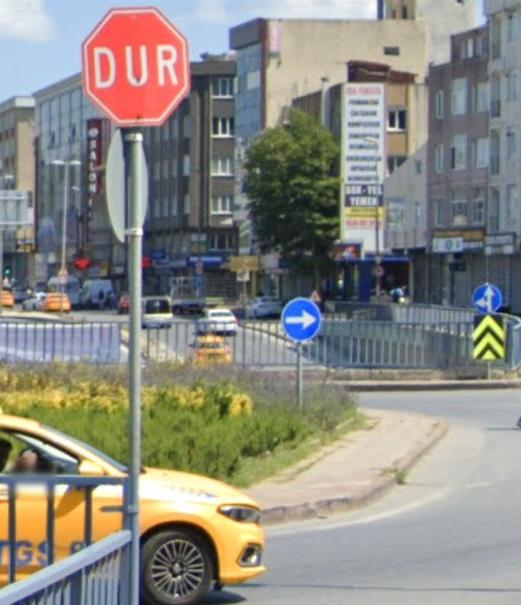stop: (86, 7, 186, 120)
turnright: (282, 297, 322, 339)
